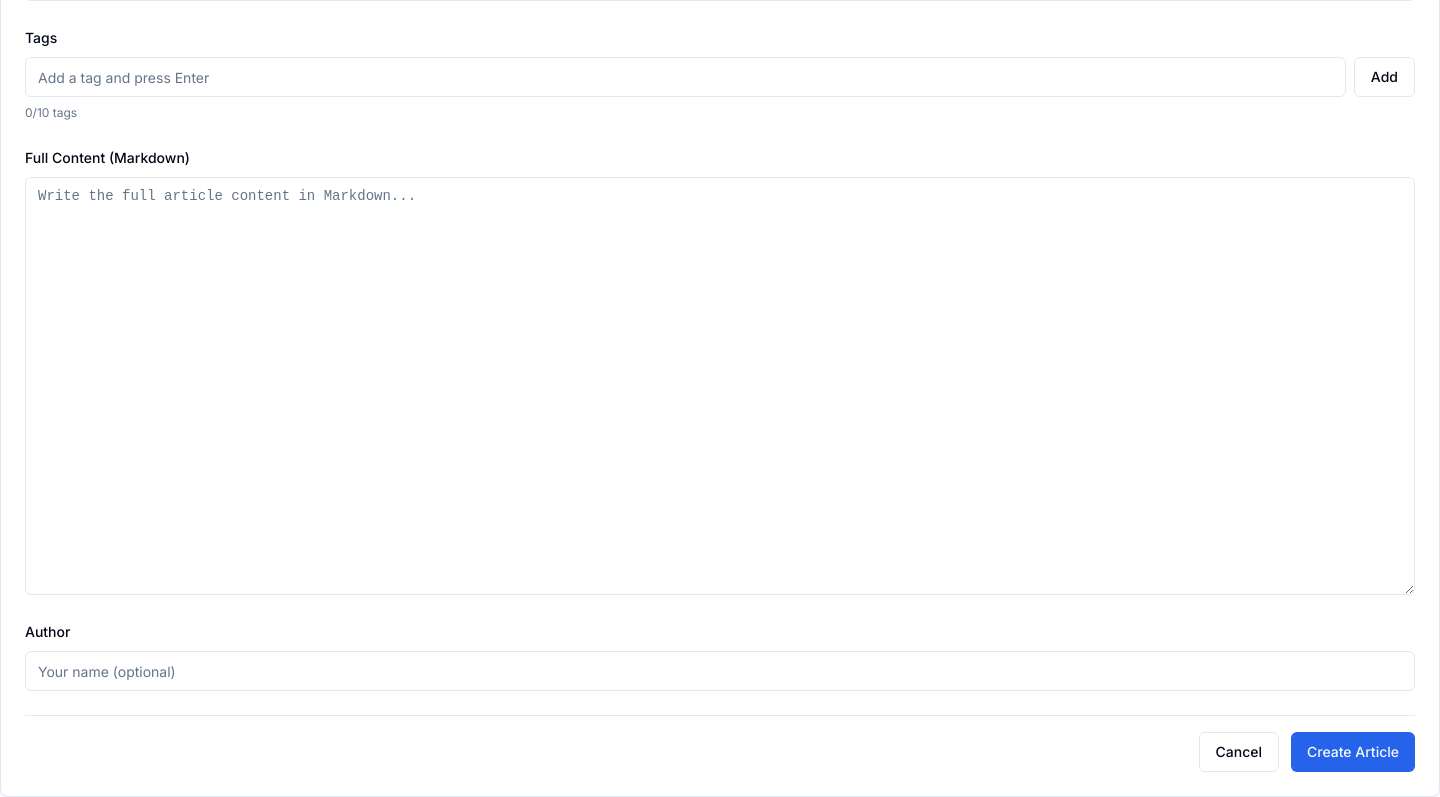
Test: ArticleForm — create mode › shows title validation error when submitting empty title
This screenshot has width=1440, height=797.
(page scrolled)
Click the button "Create Article" at (1353, 752), box [1291, 732, 1415, 772]
(page scrolled)
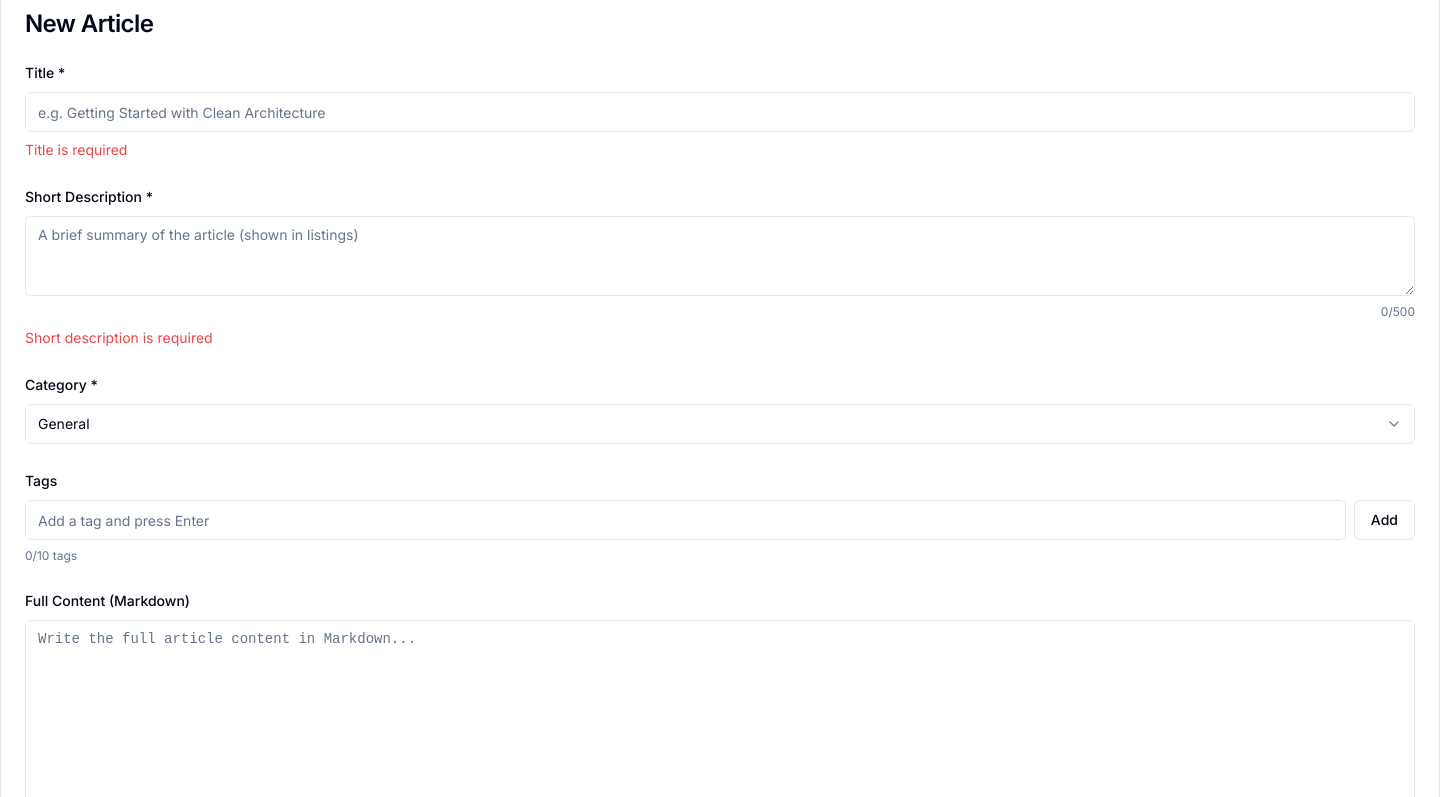
Now the text "Title is required" is shown, box [25, 141, 127, 158]
